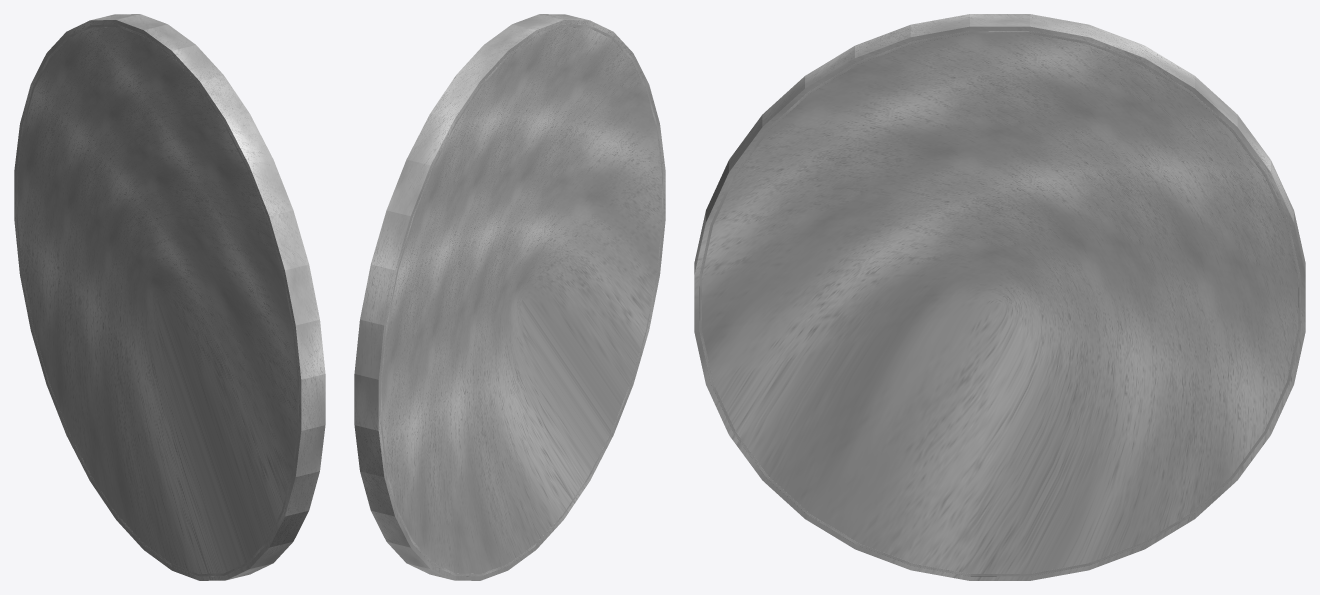
File: Window01O_3x3_light.fbx
3 renders of one model, left to right at view 1: azimuth 30°, elevation 25°; view 2: azimuth 150°, elevation 25°; view 3: azimuth 270°, elevation 25°, orthographic. The views are drawn at different scales.
Visible parts, largest first — view 1: Circle#3, Circle#2; view 2: Circle#3, Circle#2; view 3: Circle#3, Circle#2.
Part boxes in pixels (x1,y1,x2,y2): Circle#3: [14, 14, 325, 580]; Circle#2: [16, 24, 298, 576]; Circle#3: [354, 14, 665, 580]; Circle#2: [381, 24, 663, 576]; Circle#3: [694, 14, 1305, 580]; Circle#2: [699, 31, 1300, 576].
Size of the model in its own units: 0.2941 by 6 by 6.
Materials: 2 (2 with a texture image).
